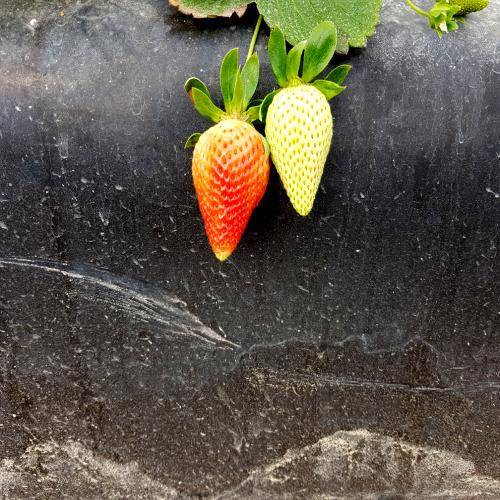partially-ripe: (186, 112, 272, 282)
unripe: (262, 67, 338, 223)
